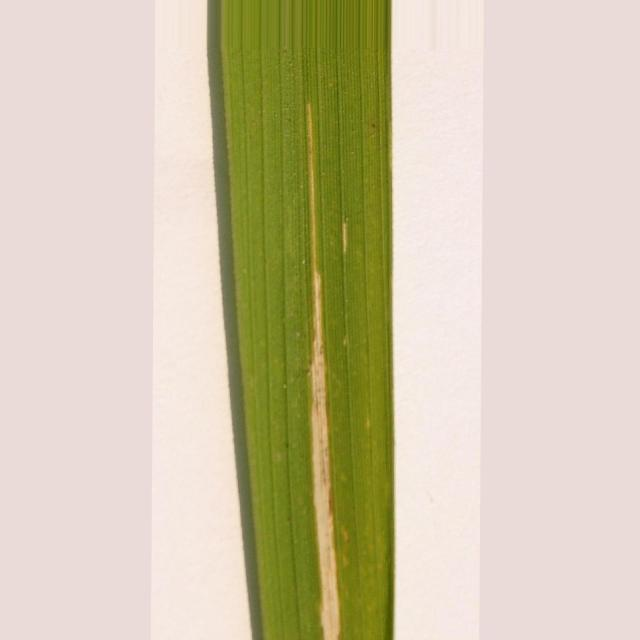Bacterial_Leaf_Blight: (306, 104, 341, 639)
